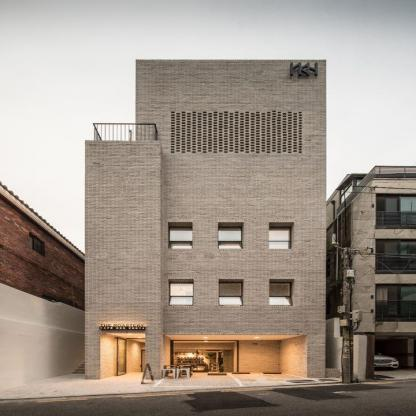Balcony: (92, 123, 157, 141)
Building Outline: (85, 59, 326, 380)
Deco: (290, 63, 317, 76)
Dont: (163, 365, 191, 379)
Door: (126, 339, 144, 374), (219, 350, 233, 373)
Door Hole: (163, 335, 307, 380), (100, 333, 146, 380)
Facade: (85, 141, 326, 380)
Floor: (85, 260, 326, 310), (85, 207, 326, 256), (85, 158, 326, 203)
Floor Slab: (85, 311, 326, 315), (85, 256, 326, 260), (85, 154, 326, 158), (85, 204, 326, 208)
Glass Wall: (174, 341, 237, 373)
Ground Floor: (85, 315, 326, 380)
Pillar: (146, 334, 162, 380)
Shop: (99, 324, 146, 331)
Top Floor: (136, 60, 326, 154)
Window: (169, 282, 194, 306), (219, 282, 243, 306), (218, 226, 243, 249), (269, 226, 293, 249), (270, 283, 293, 306), (169, 226, 192, 249)
Window Hole: (269, 223, 295, 249), (169, 279, 194, 306), (218, 223, 243, 249), (219, 279, 243, 306), (270, 279, 293, 306), (169, 223, 192, 249)
